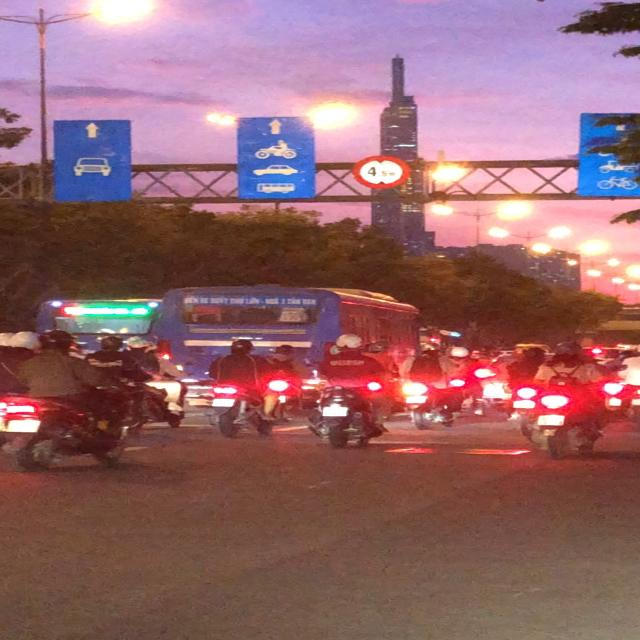Bien bao han che chieu cao: (354, 149, 420, 191)
